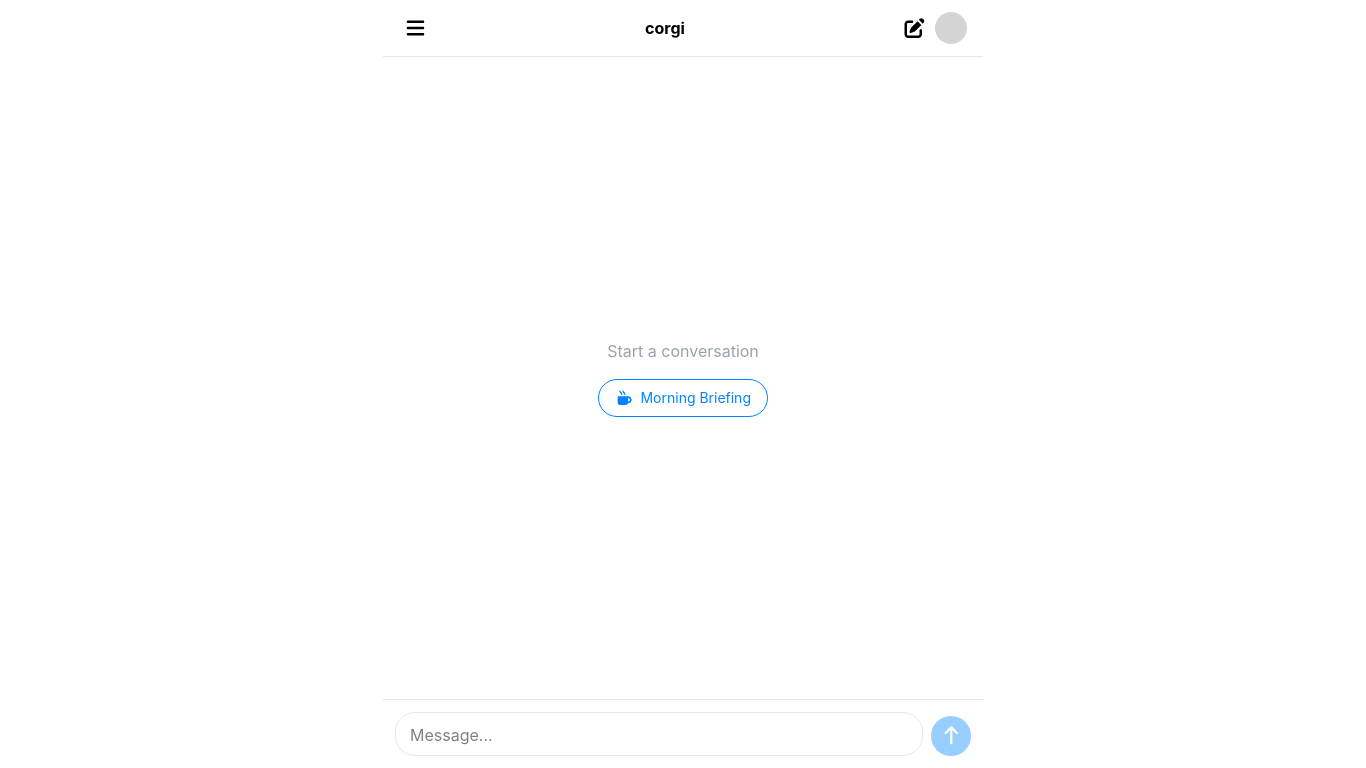
ChatPage error toasts › shows "Failed to load messages" when getMessages rejects
Click the button named "Toggle menu". click: coordinates (416, 28)
box: [399,14,432,42]
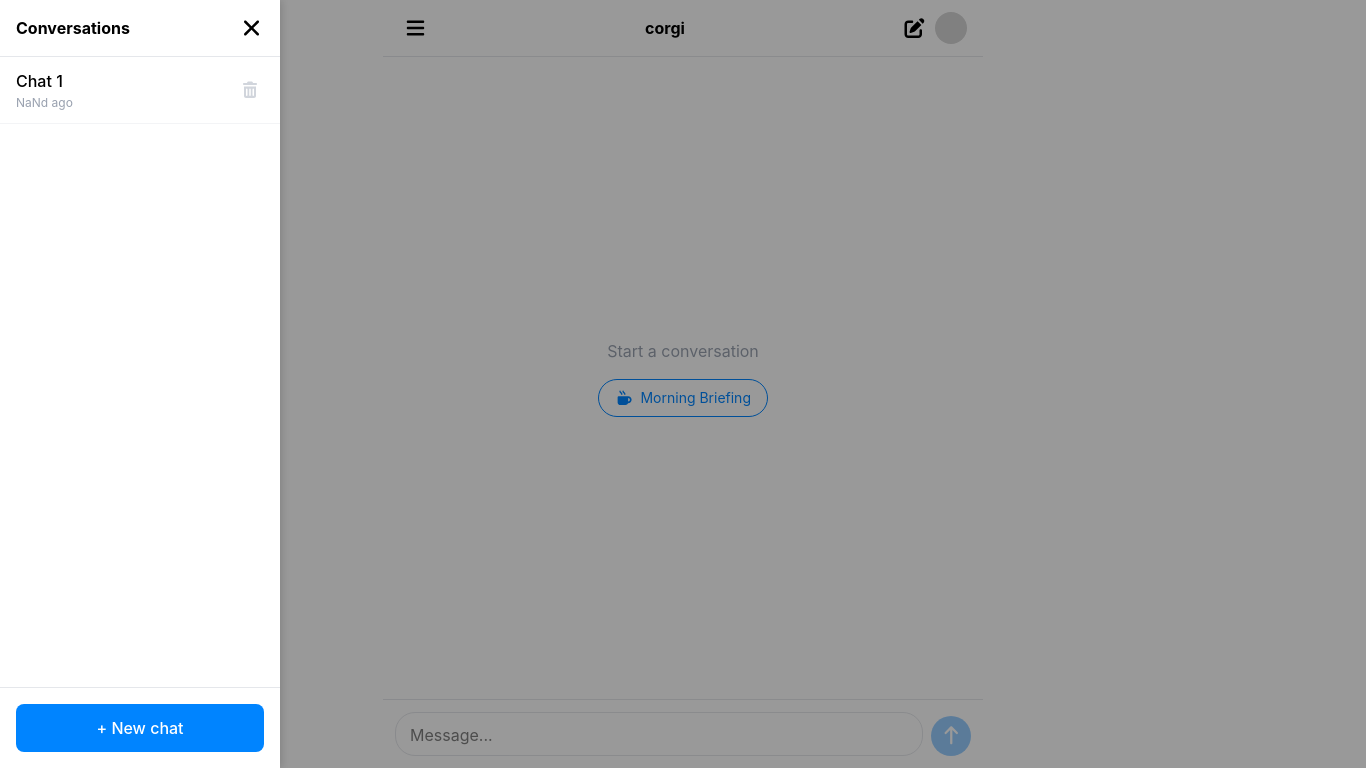
Result: the text "Chat 1" is shown
Click the text "Chat 1". click: coordinates (39, 81)
box: [16,71,63,91]
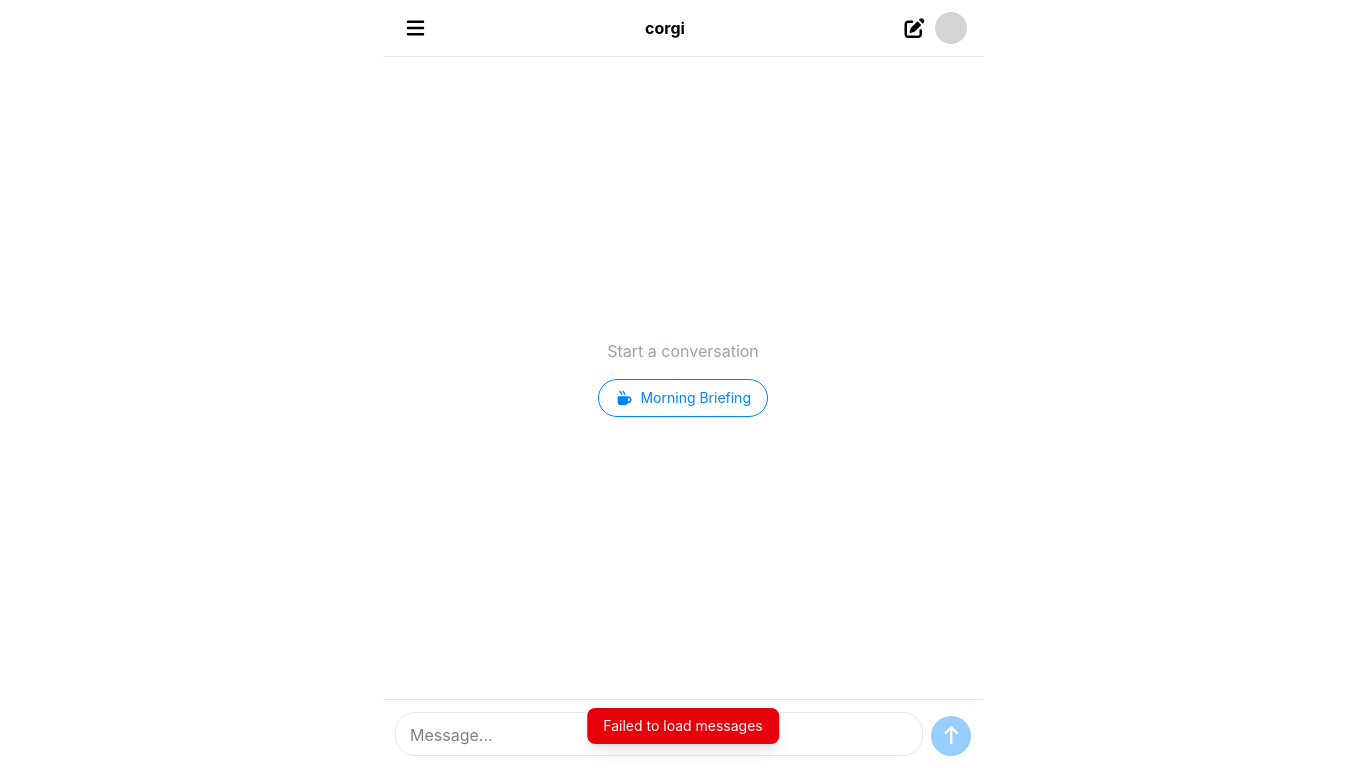
Result: the text "Failed to load messages" is shown at [587,708,779,744]
